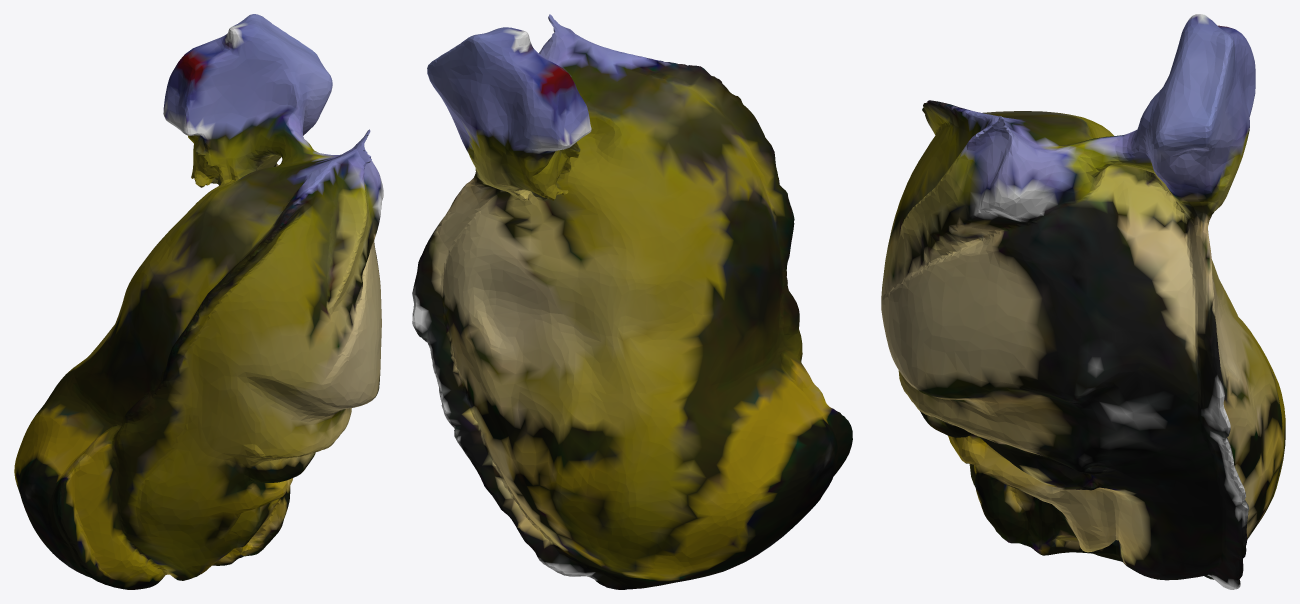
The model's file is b_fullhelmet.glb.
3 renders of one model, left to right at view 1: azimuth 30°, elevation 25°; view 2: azimuth 150°, elevation 25°; view 3: azimuth 270°, elevation 25°, orthographic. The views are drawn at different scales.
Visible parts, largest first — view 1: geometry_0; view 2: geometry_0; view 3: geometry_0.
Part boxes in pixels (bbox=[...]): geometry_0: bbox=[14, 14, 383, 589]; geometry_0: bbox=[412, 14, 852, 589]; geometry_0: bbox=[881, 14, 1285, 589].
Bounding box in the file's own units: 0.5625 × 0.7891 × 0.4674.
